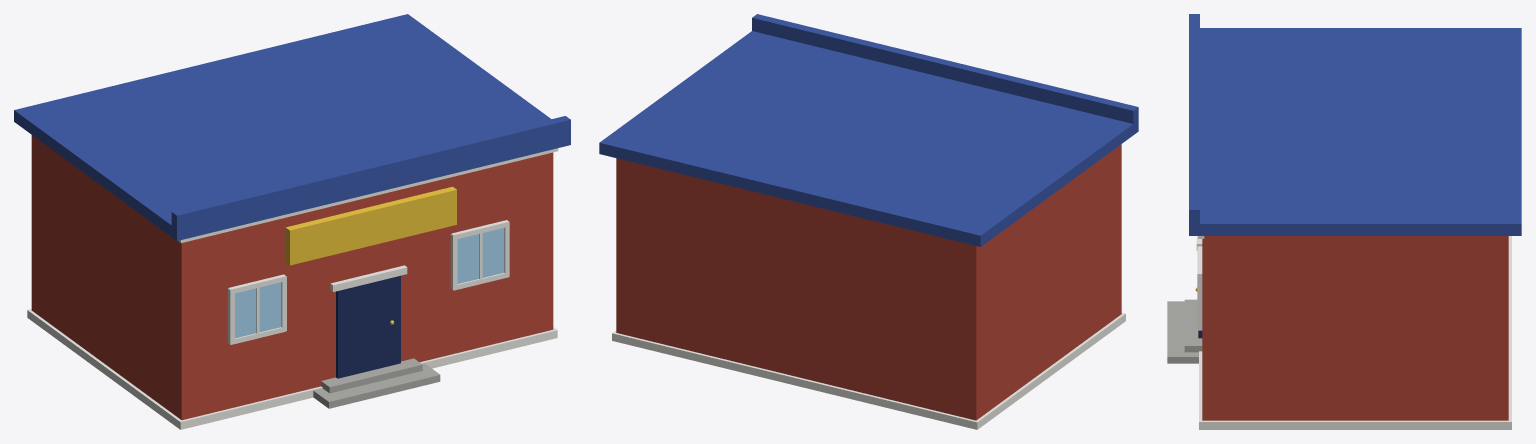
The model's file is PostOffice.fbx.
3 renders of one model, left to right at view 1: azimuth 30°, elevation 25°; view 2: azimuth 150°, elevation 25°; view 3: azimuth 270°, elevation 25°, orthographic. The views are drawn at different scales.
Parts seen in each view (by area): view 1: Walls, Roof, Trim, Sign, Door, Windows, Steps; view 2: Walls, Roof, Trim; view 3: Roof, Walls, Trim, Steps.
Part boxes in pixels (x1,y1,x2,y2): Walls: [31, 135, 553, 420]; Roof: [14, 14, 570, 240]; Trim: [27, 148, 558, 429]; Sign: [285, 186, 456, 324]; Door: [336, 275, 400, 378]; Windows: [235, 228, 504, 338]; Steps: [313, 358, 440, 408]; Walls: [616, 144, 1121, 420]; Roof: [599, 14, 1138, 246]; Trim: [612, 313, 1125, 429]; Roof: [1189, 14, 1521, 235]; Walls: [1202, 236, 1508, 420]; Trim: [1196, 236, 1511, 429]; Steps: [1167, 299, 1202, 363].
Bounding box in the file's own units: 21.2 × 11.3 × 16.2.
